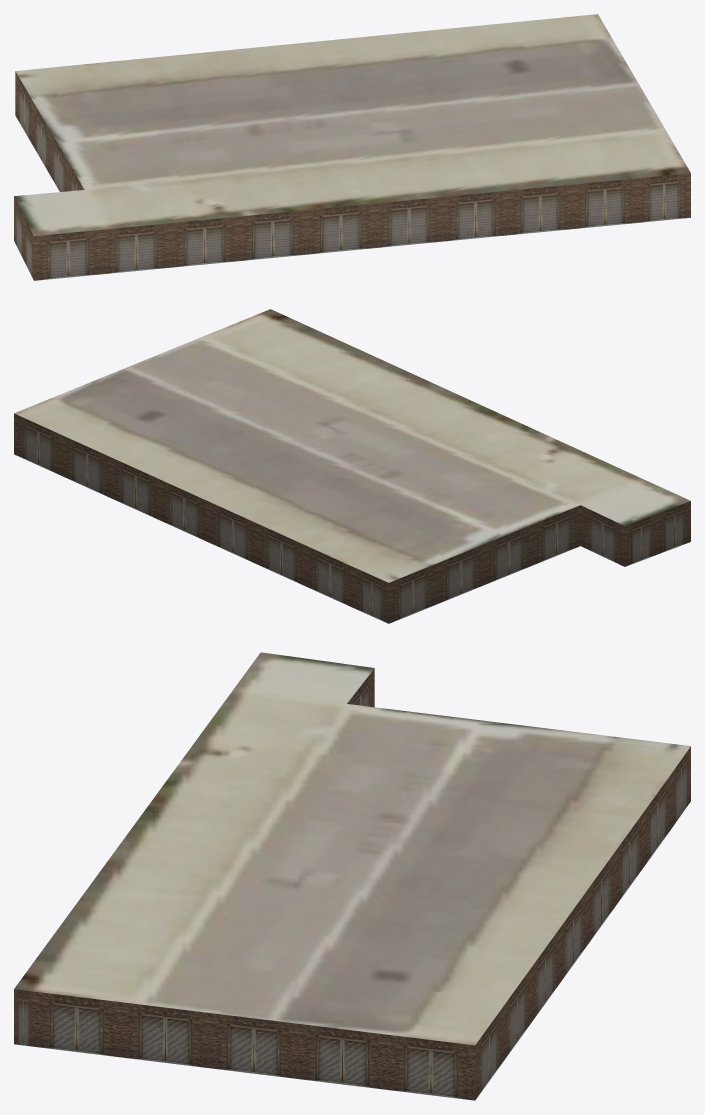
File: T_1T3FA4NXS9.dae
The picture shows the model from 3 angles, top to bottom: view 1: azimuth 30°, elevation 25°; view 2: azimuth 150°, elevation 25°; view 3: azimuth 270°, elevation 25°; orthographic projection. The views are drawn at different scales.
Parts seen in each view (by area): view 1: SketchUp (×6); view 2: SketchUp (×6); view 3: SketchUp (×5).
Boxes of the visible parts, box(x1,y1,x2,y2) form: SketchUp (×6): box(14, 14, 690, 280); SketchUp (×6): box(14, 309, 690, 623); SketchUp (×5): box(14, 652, 690, 1100).
Size of the model in its own units: 53.96 by 39.27 by 3.54.
2 materials, 2 textured.
